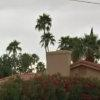Palm tree: (34, 9, 66, 52)
